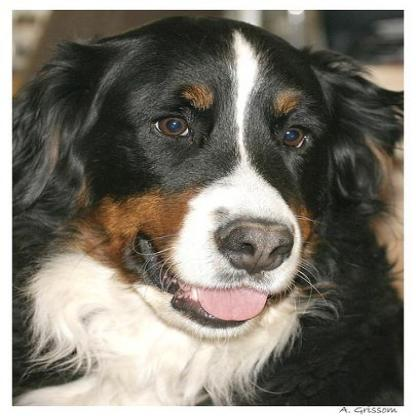Bernese_mountain_dog: (11, 16, 402, 403)
